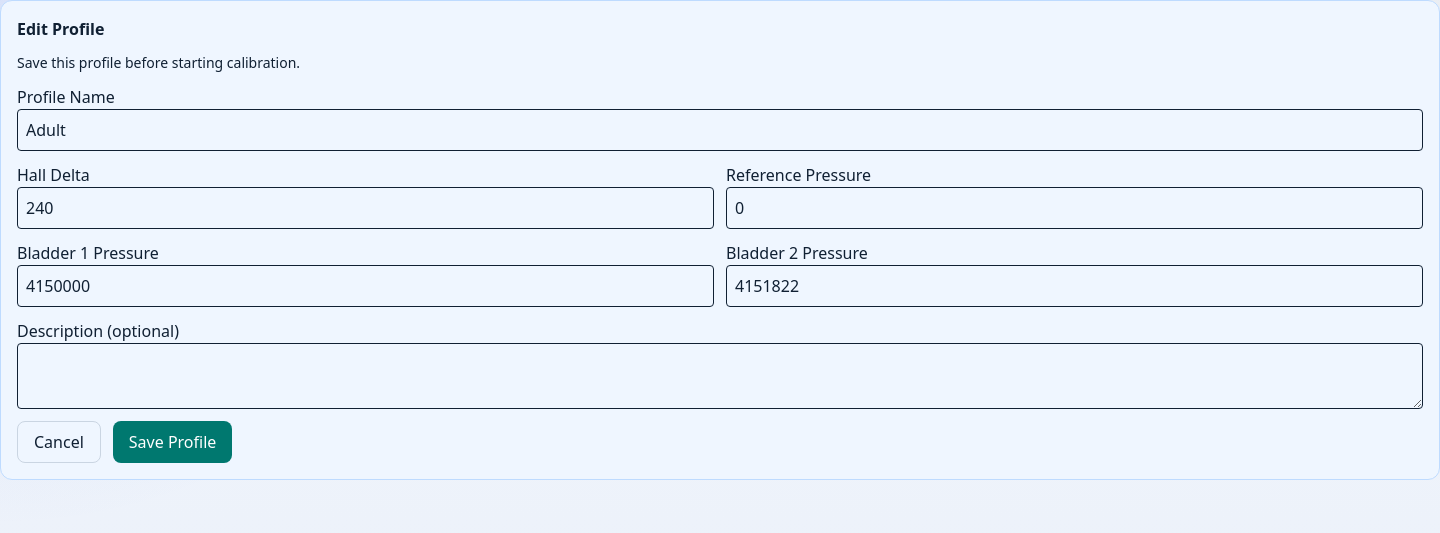
Test: CalibrationProfileEditor validation › rejects invalid pressure 0
This screenshot has width=1440, height=533.
Click the button "Save Profile". click: (173, 442)
box: top-left (113, 421), bottom-right (232, 463)
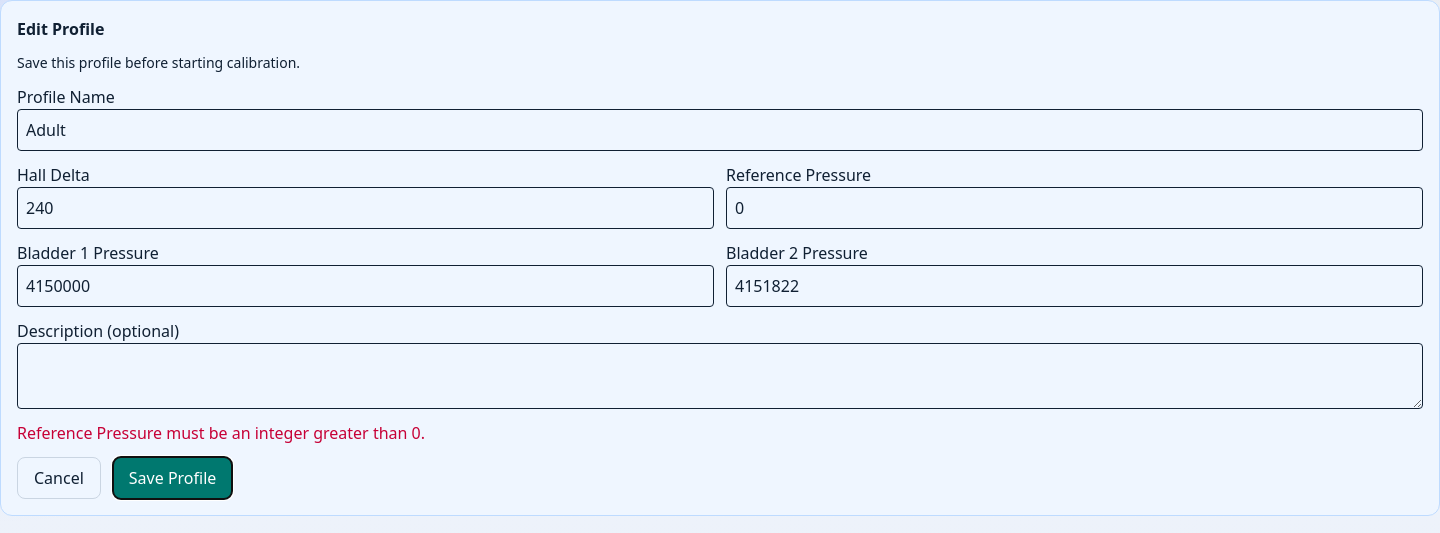
Now the message shows "integer greater than 0", box top-left (17, 422), bottom-right (425, 444)
